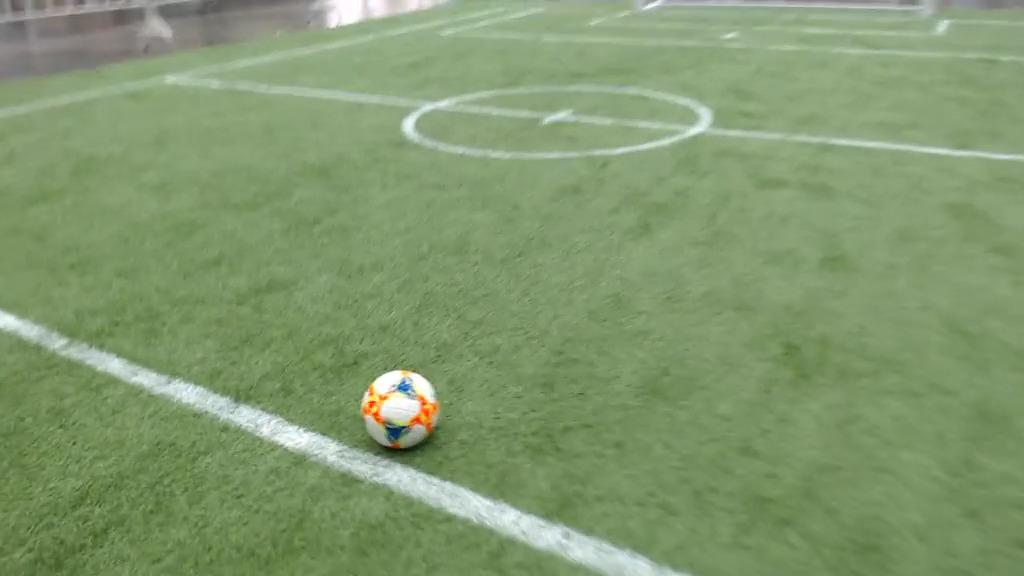ball: (360, 372, 438, 450)
